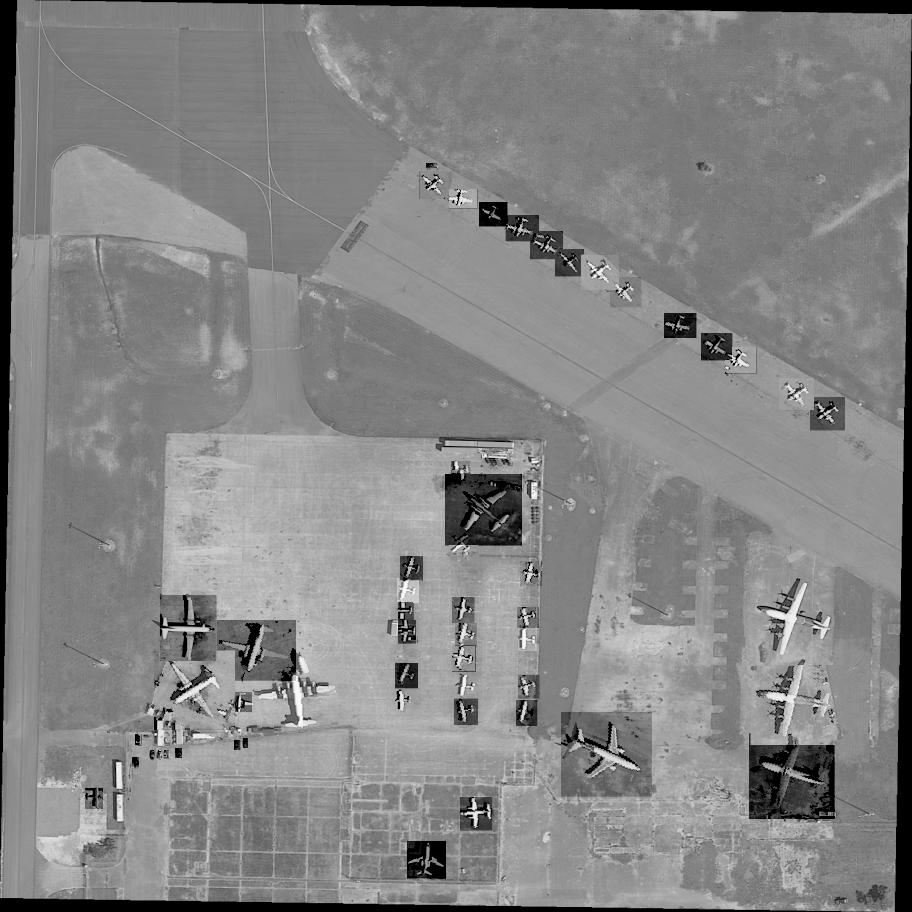large-vehicle: (483, 455, 509, 460)
plane: (750, 568, 844, 672), (752, 650, 839, 748), (561, 712, 654, 799), (750, 734, 837, 820), (155, 646, 236, 733), (252, 664, 339, 735), (445, 472, 522, 550), (216, 619, 296, 682), (159, 595, 217, 661), (407, 841, 448, 879), (581, 254, 620, 293), (810, 397, 845, 433), (779, 378, 814, 412), (460, 798, 494, 832), (610, 277, 642, 310), (530, 230, 563, 261), (420, 169, 452, 200), (702, 333, 734, 363), (506, 215, 539, 243), (555, 248, 584, 279), (726, 348, 757, 376), (665, 313, 697, 340), (449, 533, 478, 562), (480, 201, 508, 228), (452, 597, 476, 624), (453, 646, 477, 673), (454, 699, 478, 726), (395, 663, 418, 690), (225, 692, 254, 713), (398, 578, 421, 604), (516, 700, 538, 727), (449, 189, 478, 209), (520, 561, 543, 586), (400, 556, 423, 581), (454, 624, 477, 649), (454, 675, 476, 699), (519, 675, 541, 699), (451, 461, 472, 485), (518, 607, 540, 629), (518, 628, 538, 651), (398, 621, 416, 644), (395, 690, 413, 713), (86, 789, 102, 808), (399, 602, 414, 620)
small-vehicle: (408, 637, 418, 644), (175, 748, 182, 758), (135, 734, 141, 745), (132, 758, 139, 767), (234, 741, 240, 750), (150, 750, 155, 759), (244, 738, 248, 748), (427, 164, 437, 168), (158, 750, 163, 757), (165, 751, 168, 758)
